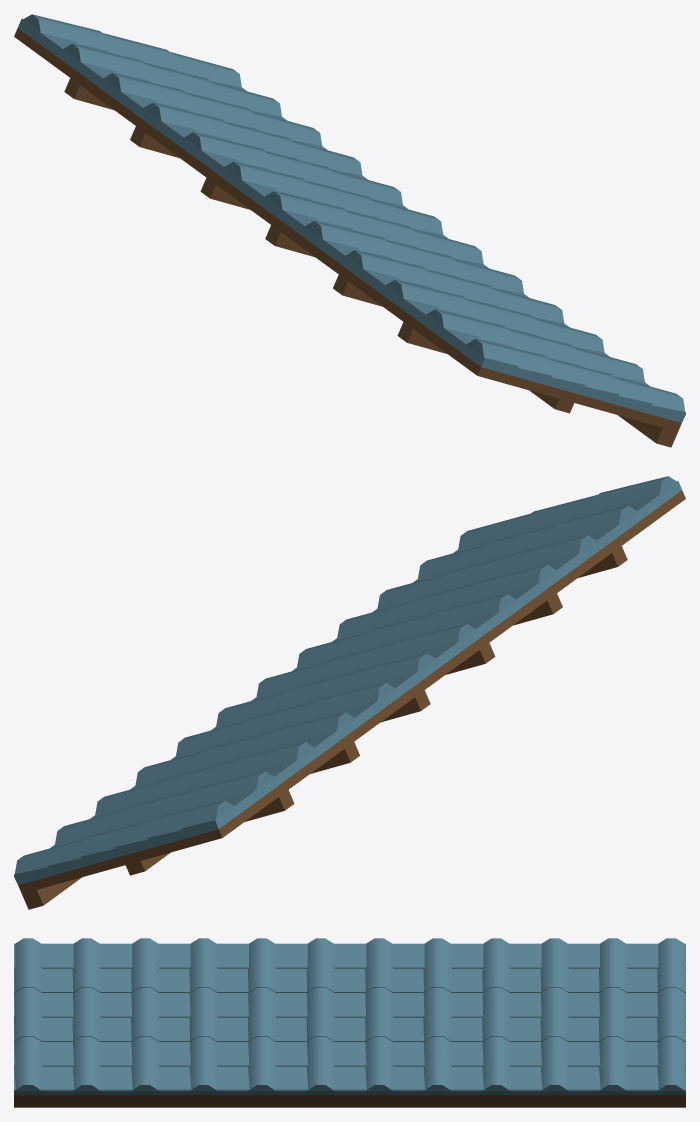
The model's file is BlueRoof_Long.fbx.
3 views of the same model, one above another, from view 1: azimuth 30°, elevation 25°; view 2: azimuth 150°, elevation 25°; view 3: azimuth 270°, elevation 25° (orthographic). The views are drawn at different scales.
Visible parts, largest first — view 1: BlueRoof_Long; view 2: BlueRoof_Long; view 3: BlueRoof_Long.
Boxes of the visible parts, bbox=[...] form: BlueRoof_Long: bbox=[14, 14, 685, 447]; BlueRoof_Long: bbox=[14, 476, 685, 909]; BlueRoof_Long: bbox=[14, 938, 685, 1107].
Size of what is drawn, in the model's own units: 130 by 82.19 by 480.
